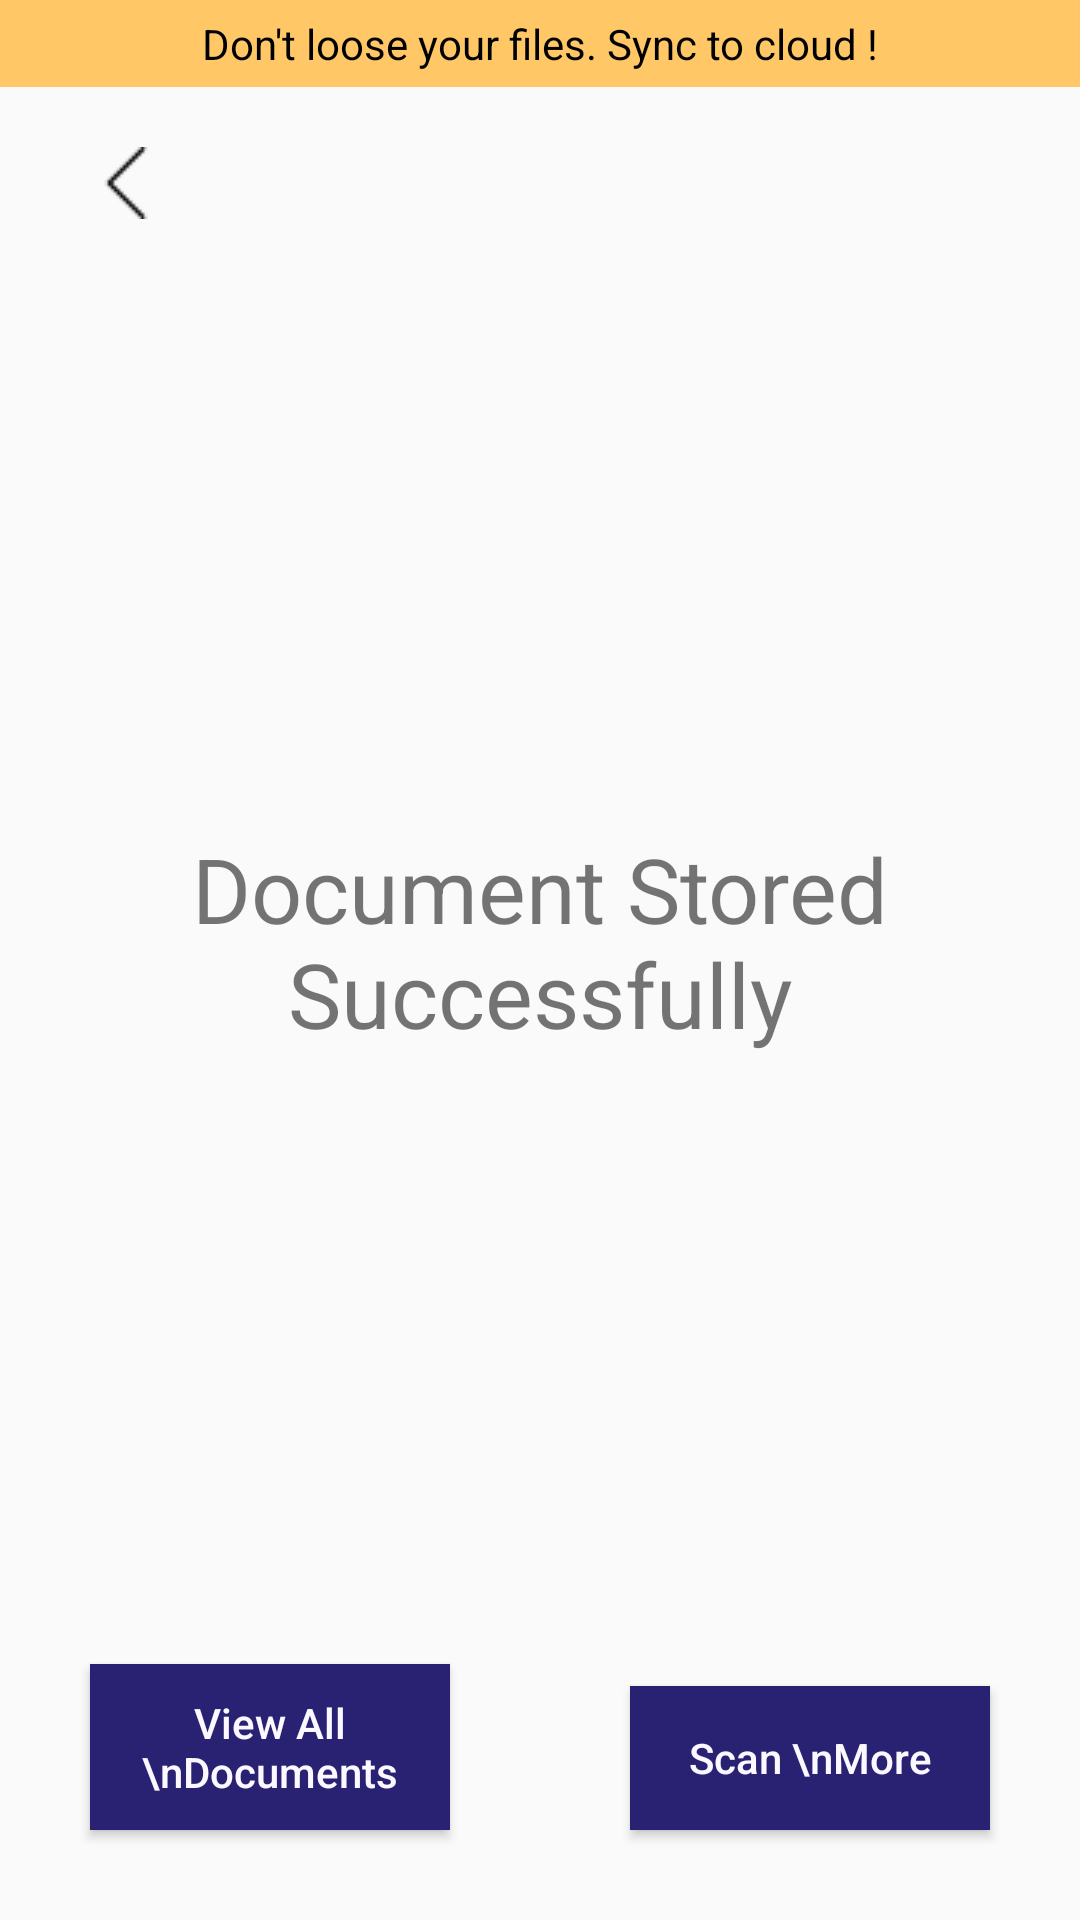

Icon click points for this 1080w x 1920h phone screenshot, format [x,y]:
back arrow: [126,183]
